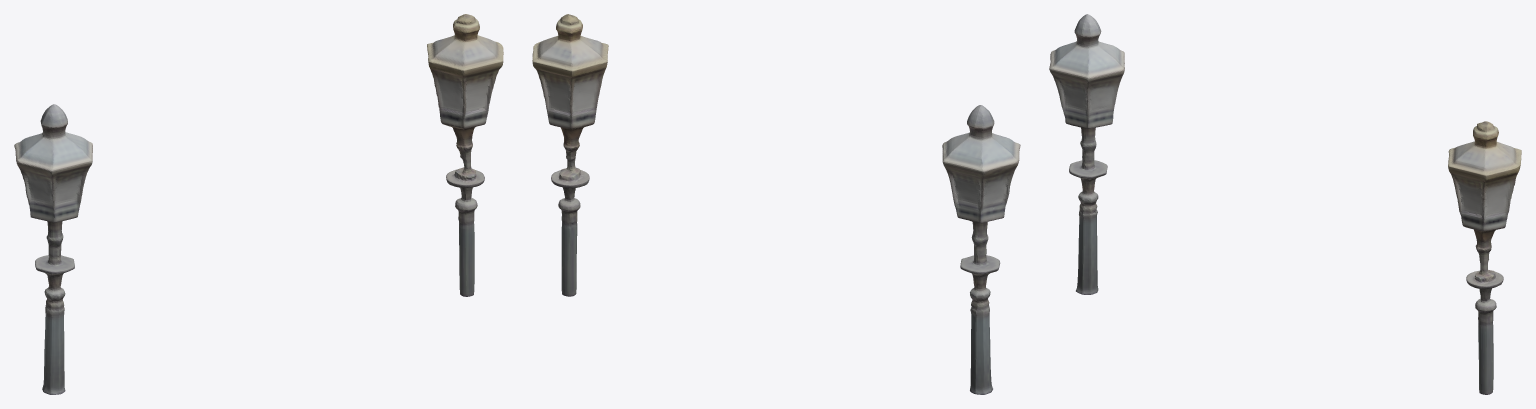
The picture shows the model from 3 angles, left to right: view 1: azimuth 30°, elevation 25°; view 2: azimuth 150°, elevation 25°; view 3: azimuth 330°, elevation 25°; orthographic projection. The views are drawn at different scales.
Visible parts, largest first — view 1: geometry_0; view 2: geometry_0; view 3: geometry_0.
Boxes of the visible parts, left/top/right/bottom form: geometry_0: left=14, top=14, right=503, bottom=394; geometry_0: left=532, top=14, right=1020, bottom=394; geometry_0: left=1049, top=14, right=1521, bottom=394.
Size of the model in its own units: 1 by 0.5734 by 0.1354.
